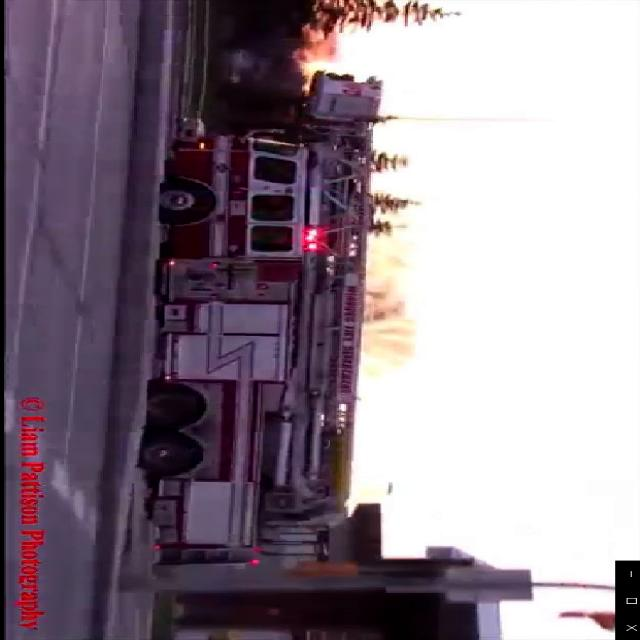emergency: (142, 68, 386, 570)
